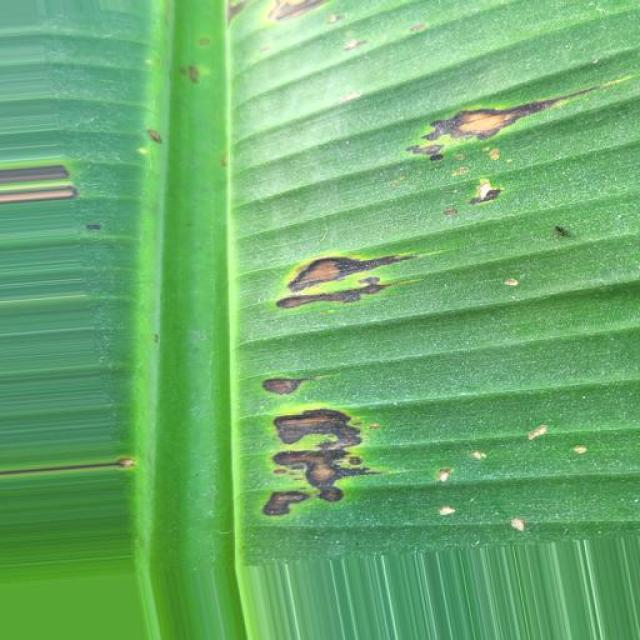Early_rust: (229, 223, 420, 540), (374, 41, 633, 184), (0, 143, 108, 216), (198, 0, 374, 42)
